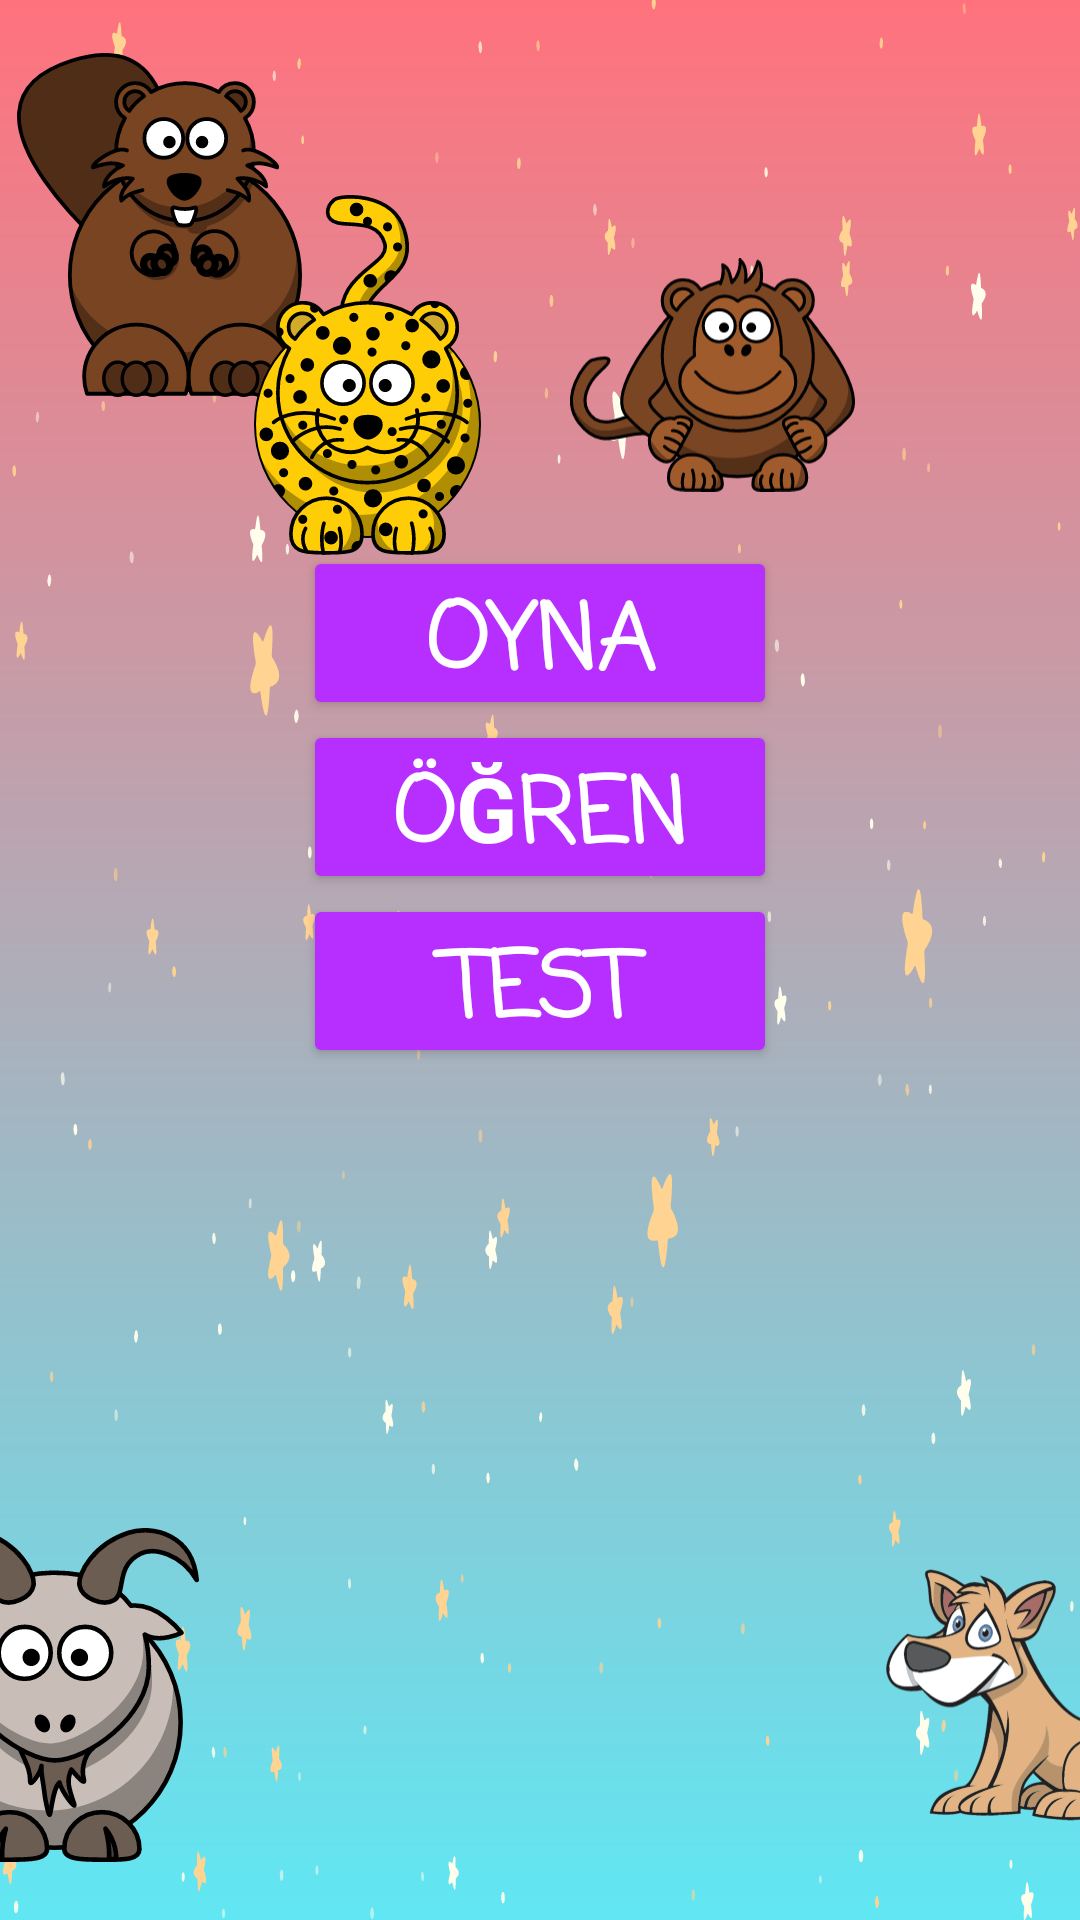

Named icons in this screenshot (1080×1920) and their centers, (x,y):
leopard: (367,375)
monkey: (712,374)
